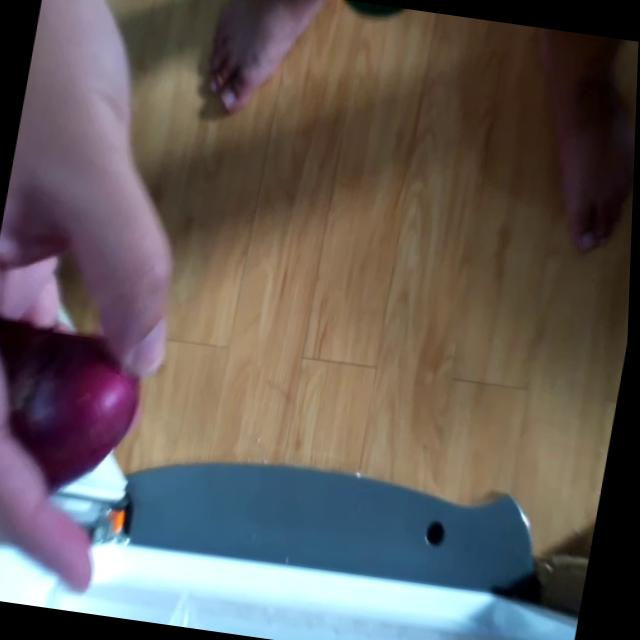onion: (0, 305, 158, 504)
